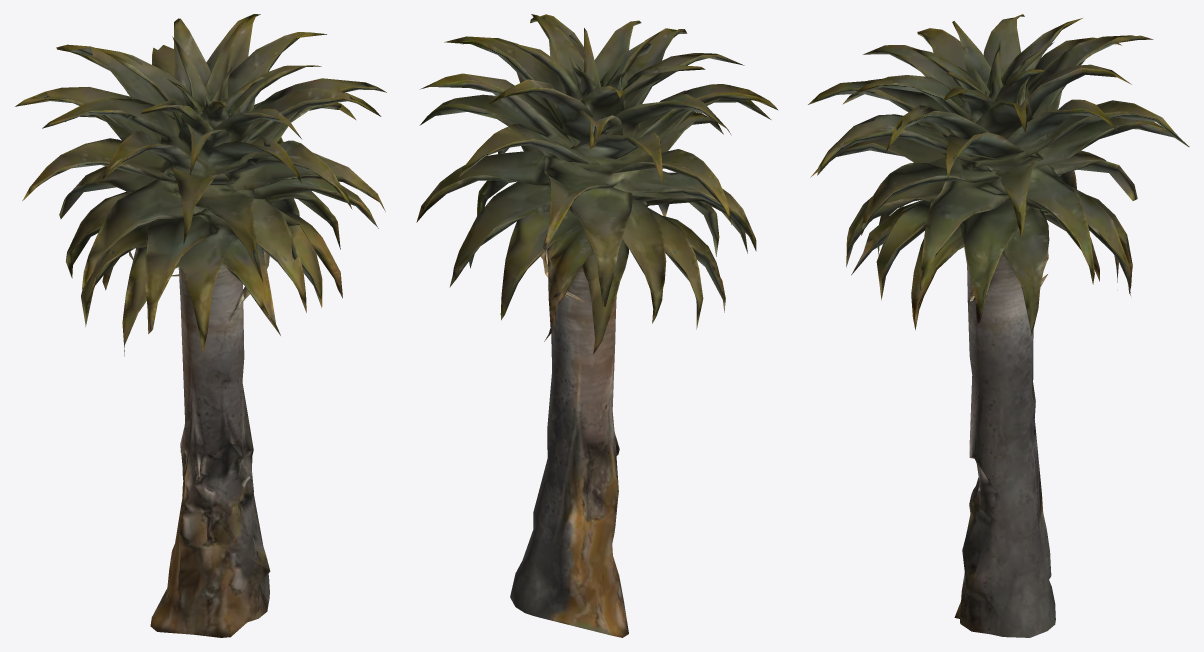
File: desert_tree_01.glb
The picture shows the model from 3 angles, left to right: view 1: azimuth 30°, elevation 25°; view 2: azimuth 150°, elevation 25°; view 3: azimuth 270°, elevation 25°; orthographic projection.
Parts seen in each view (by area): view 1: quiver_tree_02; view 2: quiver_tree_02; view 3: quiver_tree_02.
Part boxes in pixels (left/top/right/bottom): quiver_tree_02: left=15, top=14, right=386, bottom=637; quiver_tree_02: left=416, top=14, right=777, bottom=637; quiver_tree_02: left=808, top=14, right=1189, bottom=637.
Size of the model in its own units: 0.8628 by 1.46 by 0.8752.
1 material, 1 textured.
